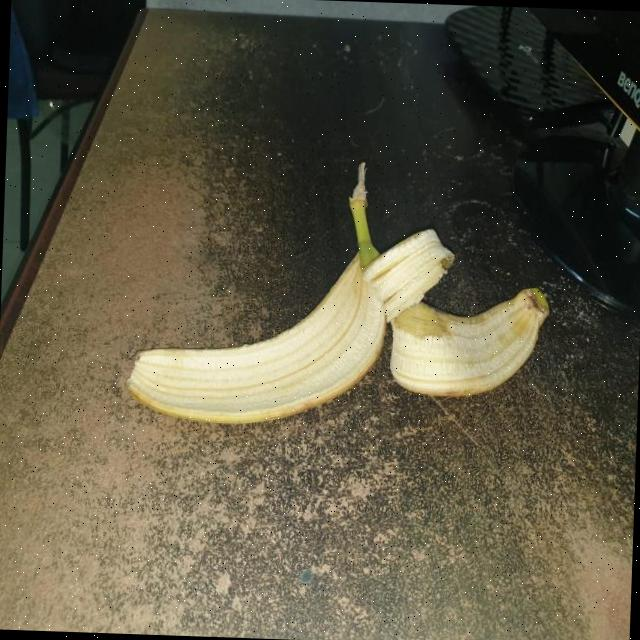banana-peel: (122, 152, 456, 432), (386, 280, 550, 400)
